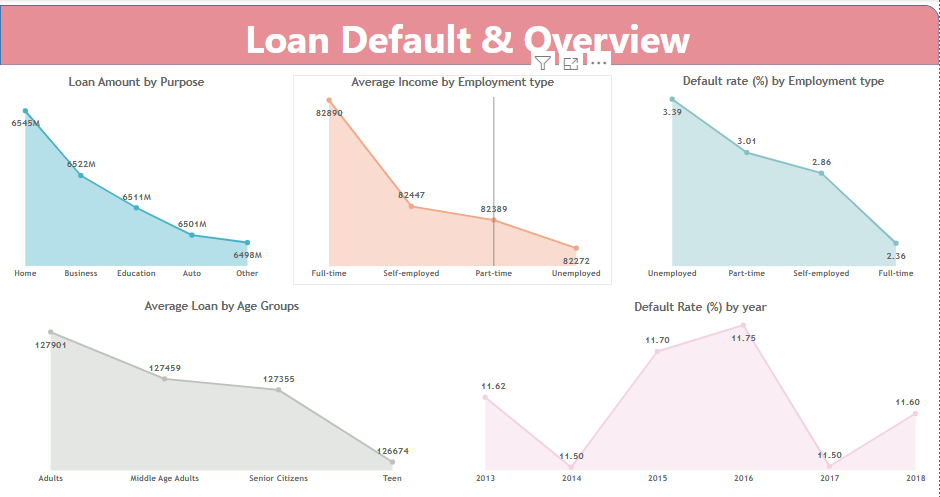

The page's visual inventory and layout, read from the dashboard file:
{"tool":"powerbi","page":{"name":"Loan Default & Overview","canvas":[1500,800],"ordinal":0},"visuals":[{"type":"shape","box":[0,10.1,1500,96.3],"z":0},{"type":"areaChart","title":"Loan Amount by Purpose","fields":{"Category":["Loan_default.LoanPurpose"],"Y":["Measure Table1.Loan Amount by Purpose"]},"box":[0,121,435.5,333.9],"z":1000},{"type":"areaChart","title":"Average Income by Employment type","fields":{"Category":["Loan_default.EmploymentType"],"Y":["Measure Table1.Average Income by Employment type"]},"box":[468.1,121.8,509.9,334.1],"z":2000},{"type":"areaChart","title":"Default rate (%) by Employment type","fields":{"Category":["Loan_default.EmploymentType"],"Y":["Measure Table1.Default rate by Employment type"]},"box":[1018,120.1,464.6,335.8],"z":3000},{"type":"areaChart","title":"Average Loan by Age Groups","fields":{"Category":["Loan_default.Age groups"],"Y":["Measure Table1.Average Loan by Age Groups"]},"box":[3.5,478.5,701.3,302.8],"z":4000},{"type":"areaChart","title":"Default Rate (%) by year","fields":{"Y":["Measure Table1.Default Rate by year"],"Category":["Loan_default.Year"]},"box":[753.5,480.3,729.1,301],"z":5000}]}

Visuals, with their boxes in screenshot pixels (x1, y1, x2, y2), scaled from the page's 1500x800 canvas onto the 940x497 screenshot:
shape: locate(0, 6, 939, 66)
"Loan Amount by Purpose" areaChart: locate(0, 75, 273, 283)
"Average Income by Employment type" areaChart: locate(293, 76, 613, 283)
"Default rate (%) by Employment type" areaChart: locate(638, 75, 929, 283)
"Average Loan by Age Groups" areaChart: locate(2, 297, 442, 485)
"Default Rate (%) by year" areaChart: locate(472, 298, 929, 485)
